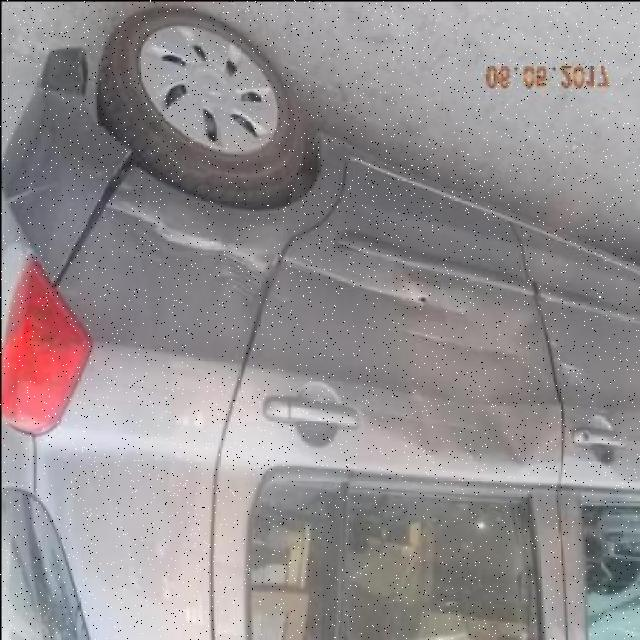damage: (486, 400, 544, 465), (406, 395, 446, 450), (223, 249, 262, 301), (555, 357, 586, 382)
